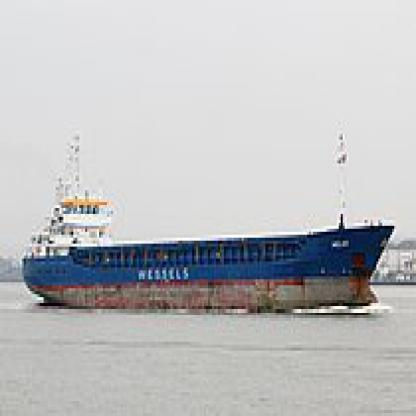Container Ship: (20, 128, 395, 313)
